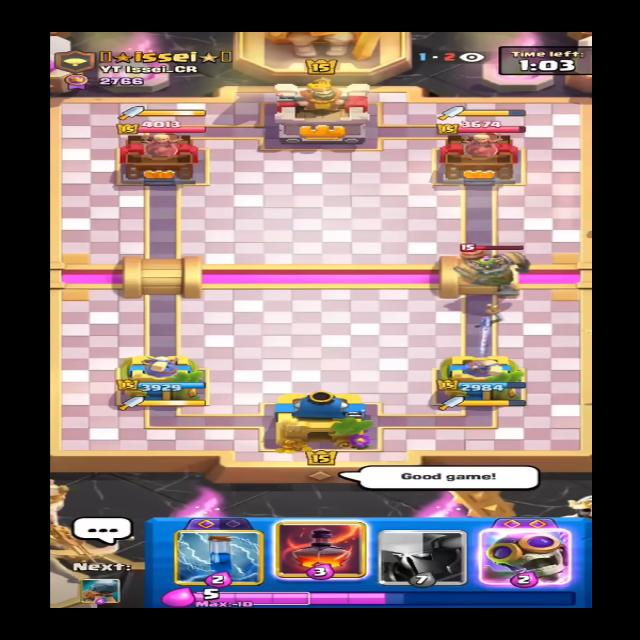goblin-machine: (450, 243, 538, 299)
